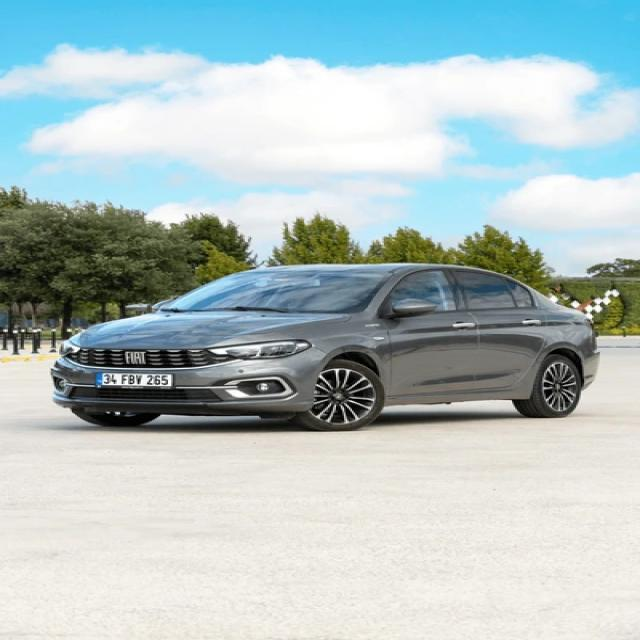fiat: (118, 348, 154, 367)
